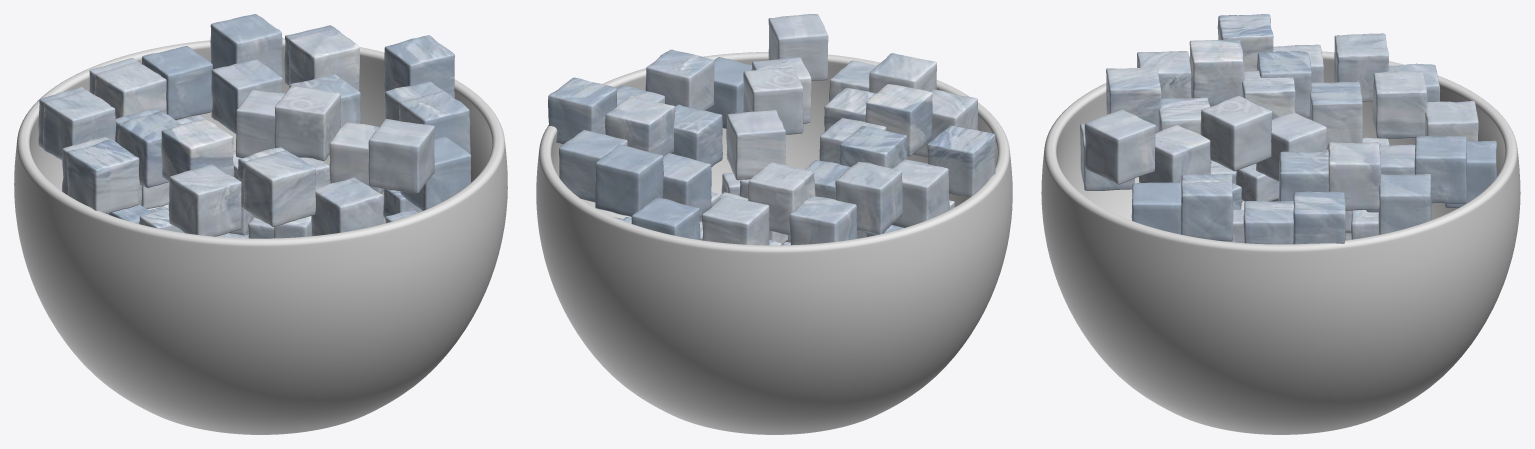
The model's file is IceBowl.fbx.
The picture shows the model from 3 angles, left to right: view 1: azimuth 30°, elevation 25°; view 2: azimuth 150°, elevation 25°; view 3: azimuth 270°, elevation 25°; orthographic projection. The views are drawn at different scales.
Visible parts, largest first — view 1: Bowl, Cube.083; view 2: Bowl, Cube.083; view 3: Bowl, Cube.083.
Boxes of the visible parts, x1,y1,x2,y2 form: Bowl: (14, 38, 507, 434); Cube.083: (38, 14, 471, 238); Bowl: (536, 52, 1012, 434); Cube.083: (548, 14, 995, 245); Bowl: (1041, 51, 1520, 434); Cube.083: (1080, 14, 1496, 244).
Bounding box in the file's own units: 208 × 136 × 208.
2 materials, 1 textured.
